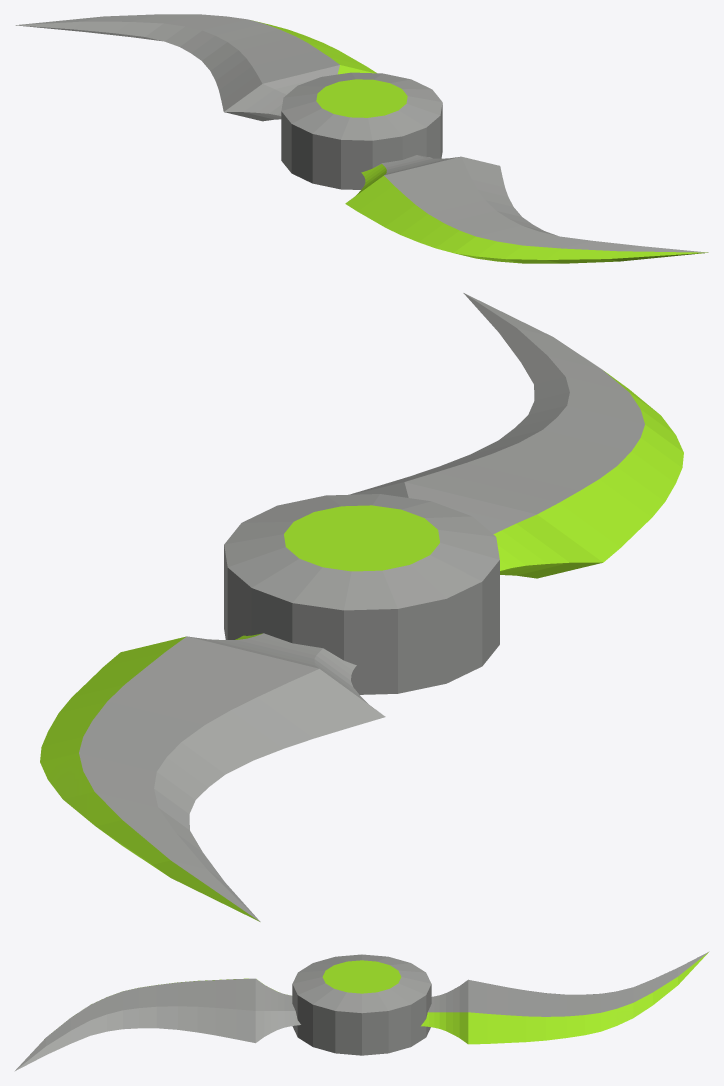
Rendered from Beyblade_Basic_Blade.fbx.
3 renders of one model, top to bottom at view 1: azimuth 30°, elevation 25°; view 2: azimuth 150°, elevation 25°; view 3: azimuth 270°, elevation 25°, orthographic. The views are drawn at different scales.
Visible parts, largest first — view 1: Circle.001; view 2: Circle.001; view 3: Circle.001.
Part boxes in pixels (x1=…): Circle.001: x1=15, y1=14, x2=708, y2=263; Circle.001: x1=40, y1=293, x2=683, y2=921; Circle.001: x1=14, y1=951, x2=709, y2=1071.
Bounding box in the file's own units: 162 × 35.77 × 394.
1 material, 1 textured.
